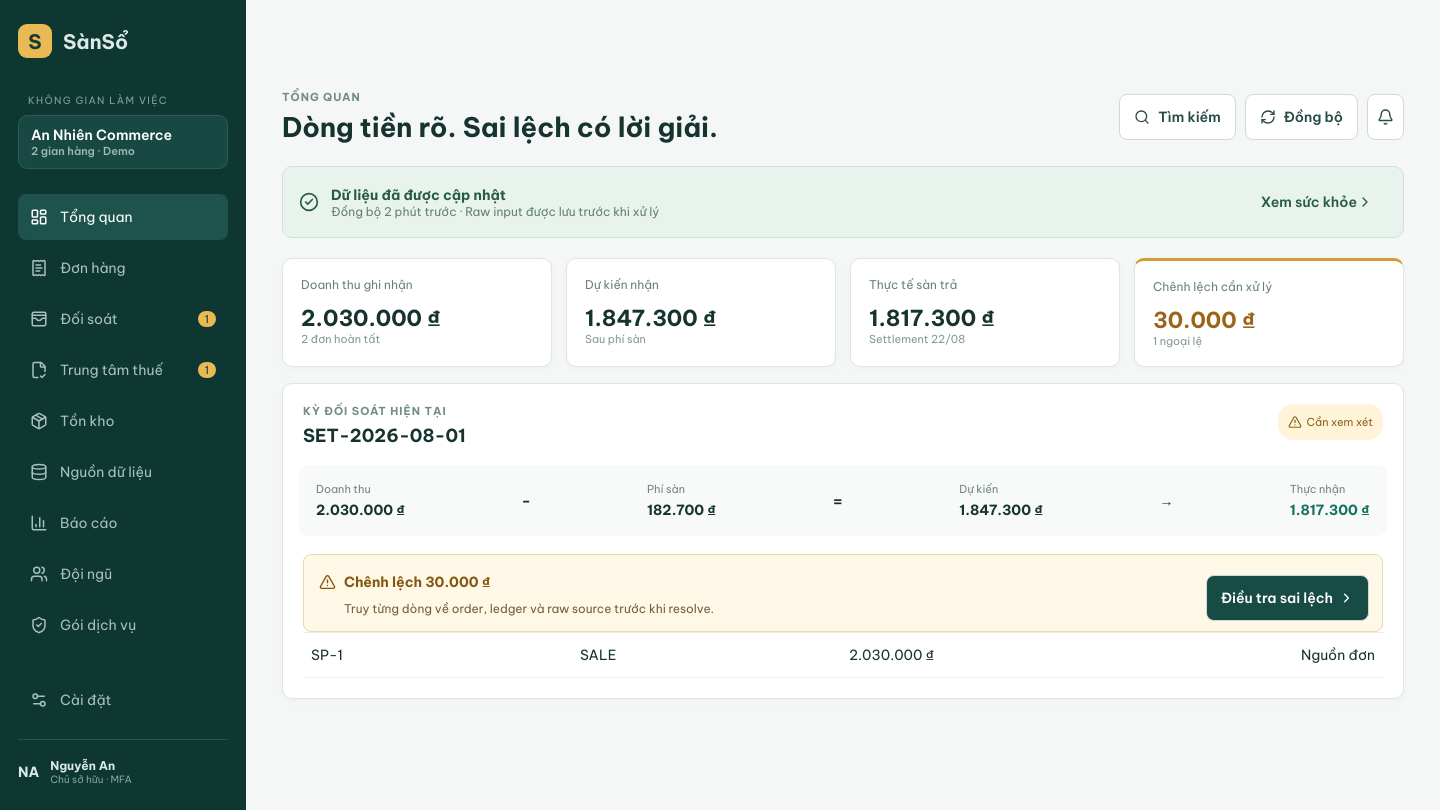
Test: SànSổ V2 workflows › navigates to Tax Center without inventing a rate
Expected: the heading "SET-2026-08-01" is shown, top-left (303, 424), bottom-right (466, 447)
Click the link "Trung tâm thuế 1": x=123, y=370 top-left (30, 358), bottom-right (216, 382)
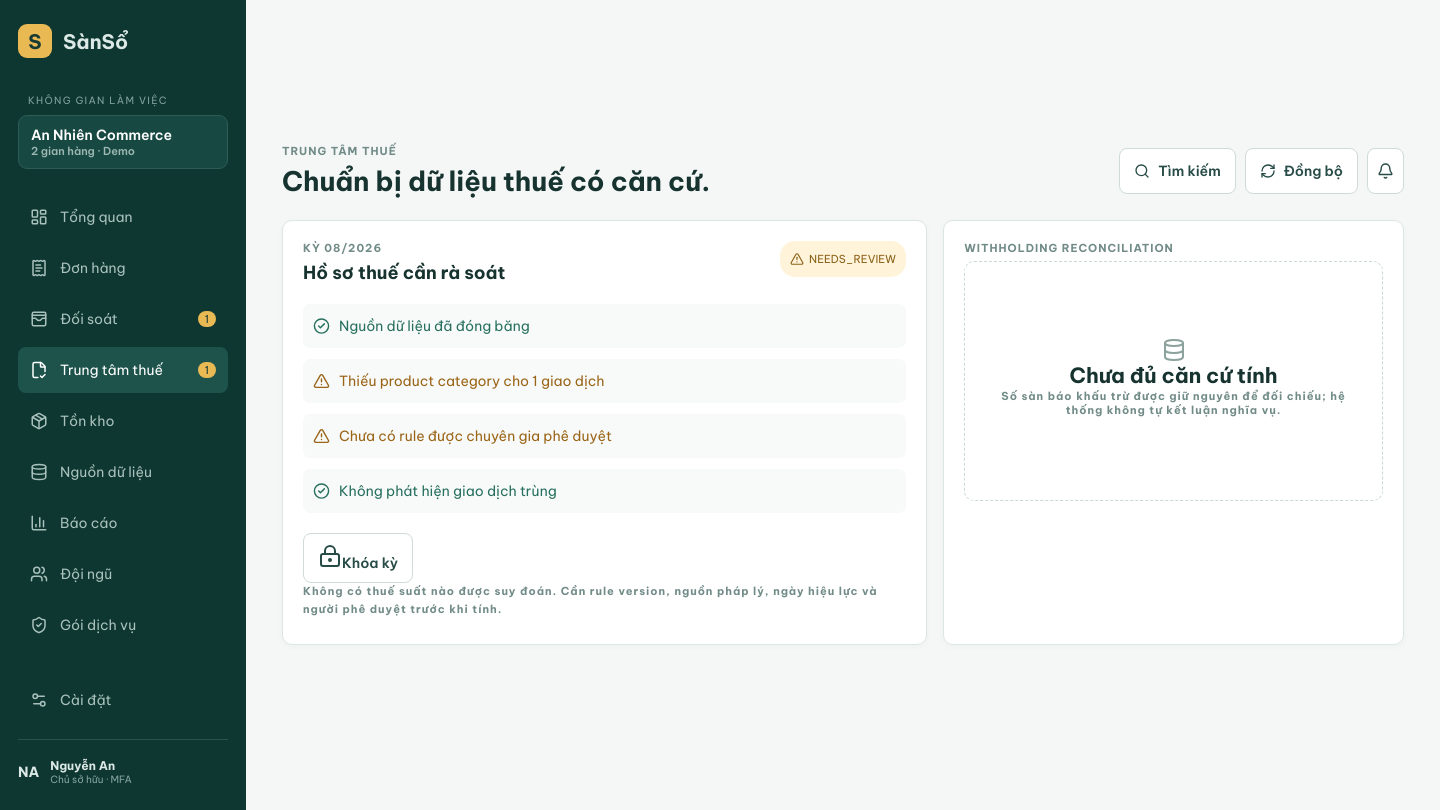
Expected: the heading "Hồ sơ thuế cần rà soát" is shown, top-left (303, 261), bottom-right (505, 284)
Expected: the text "Không có thuế suất nào được suy đoán" is shown, top-left (303, 584), bottom-right (878, 616)
Expected: the button "Khóa kỳ" is disabled, top-left (303, 533), bottom-right (413, 583)
